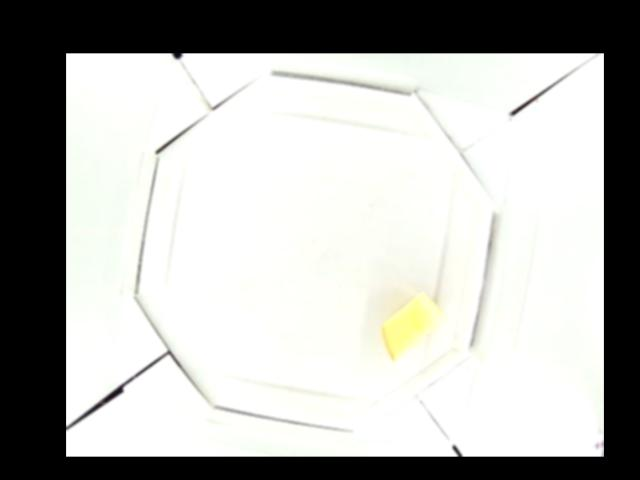Potato: (382, 290, 448, 360)
